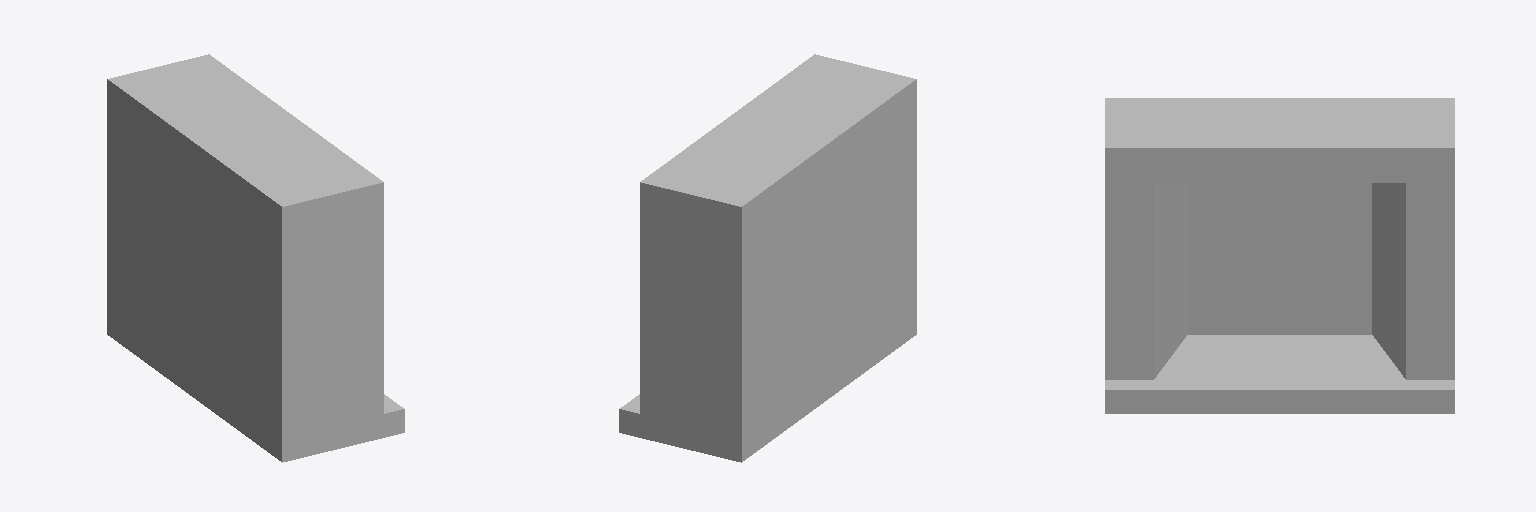
File: Fireplace.obj
The picture shows the model from 3 angles: view 1: azimuth 30°, elevation 25°; view 2: azimuth 150°, elevation 25°; view 3: azimuth 270°, elevation 25°; orthographic projection.
Parts seen in each view (by area): view 1: Fireplace; view 2: Fireplace; view 3: Fireplace.
Boxes of the visible parts, x1=… form: Fireplace: x1=107, y1=54, x2=404, y2=462; Fireplace: x1=619, y1=54, x2=916, y2=462; Fireplace: x1=1105, y1=98, x2=1454, y2=413.
Bounding box in the file's own units: 82.1 × 164 × 203.